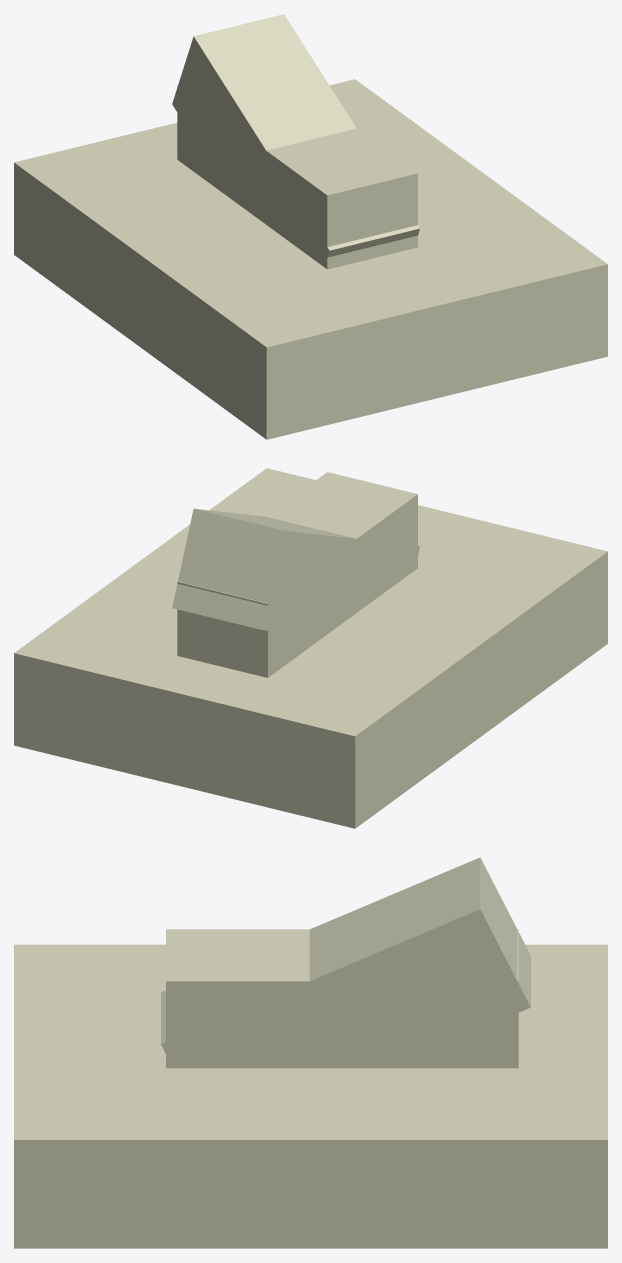
File: LightSwitch.fbx
3 views of the same model, one above another, from view 1: azimuth 30°, elevation 25°; view 2: azimuth 150°, elevation 25°; view 3: azimuth 270°, elevation 25° (orthographic). The views are drawn at different scales.
Visible parts, largest first — view 1: Box016; view 2: Box016; view 3: Box016.
Boxes of the visible parts, x1,y1,x2,y2 form: Box016: (14, 14, 607, 439); Box016: (14, 468, 607, 828); Box016: (14, 857, 607, 1248).
Bounding box in the file's own units: 16.93 × 10.81 × 21.73.
